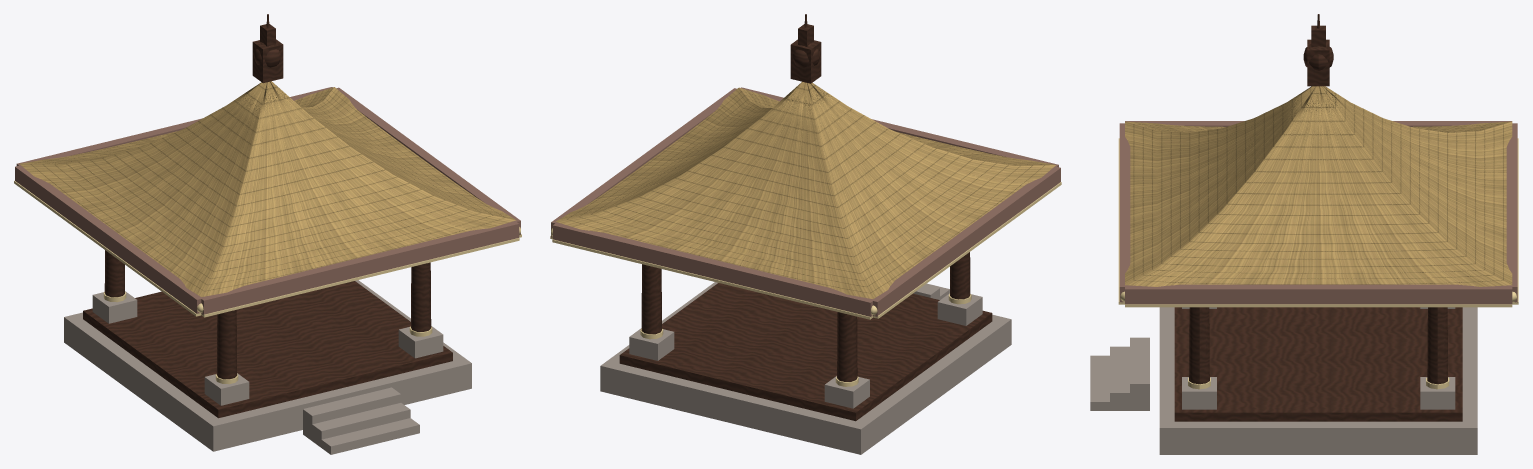
The model's file is pavilion-placeholder.glb.
3 renders of one model, left to right at view 1: azimuth 30°, elevation 25°; view 2: azimuth 150°, elevation 25°; view 3: azimuth 270°, elevation 25°, orthographic. The views are drawn at different scales.
Parts seen in each view (by area): view 1: pavilion_placeholder; view 2: pavilion_placeholder; view 3: pavilion_placeholder.
Boxes of the visible parts, <box> form: pavilion_placeholder: <box>14,14,521,454</box>; pavilion_placeholder: <box>550,14,1061,454</box>; pavilion_placeholder: <box>1090,14,1518,454</box>.
Bounding box in the file's own units: 8.06 × 8.3 × 8.63.
Materials: 8 (3 with a texture image).
